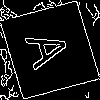A: (25, 25, 81, 72)
